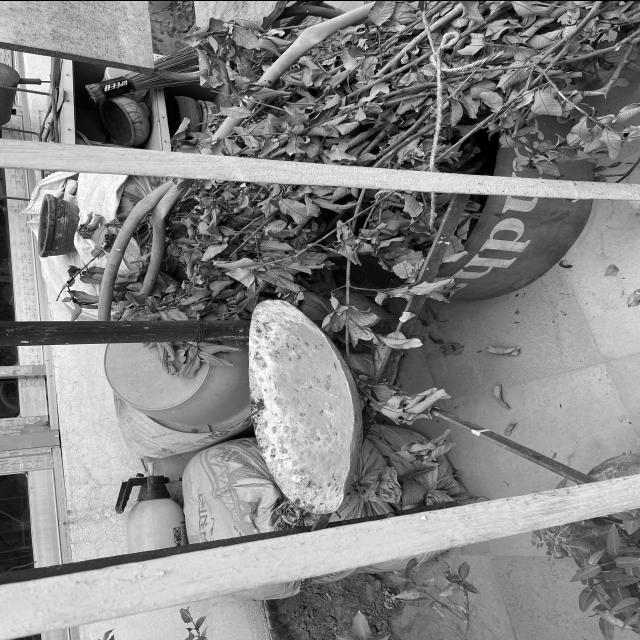Breeding Place: (240, 290, 381, 520), (31, 185, 86, 268)
